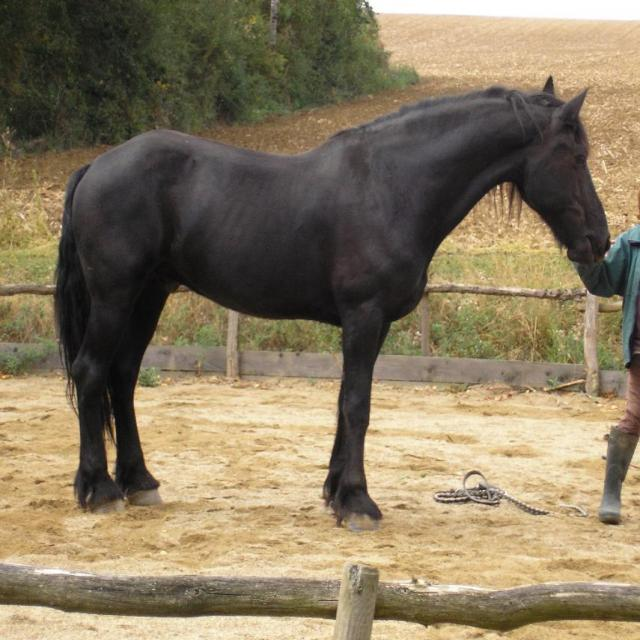Horse: (53, 71, 612, 533)
